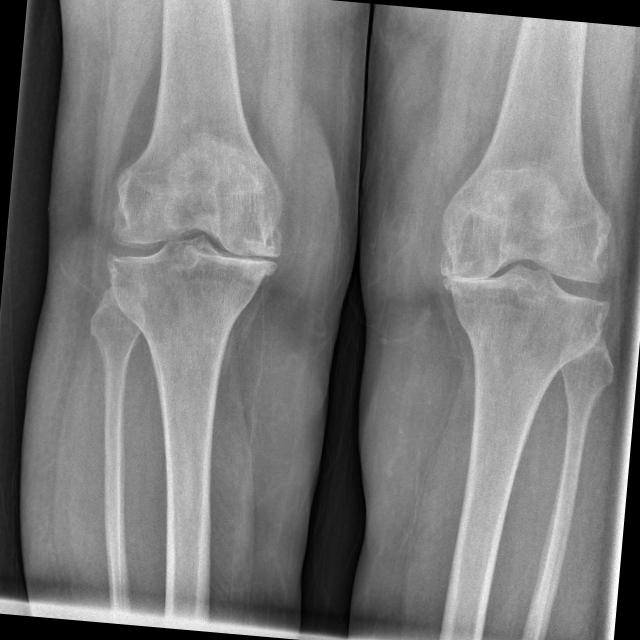Knee: (428, 191, 622, 366), (101, 158, 290, 336)
